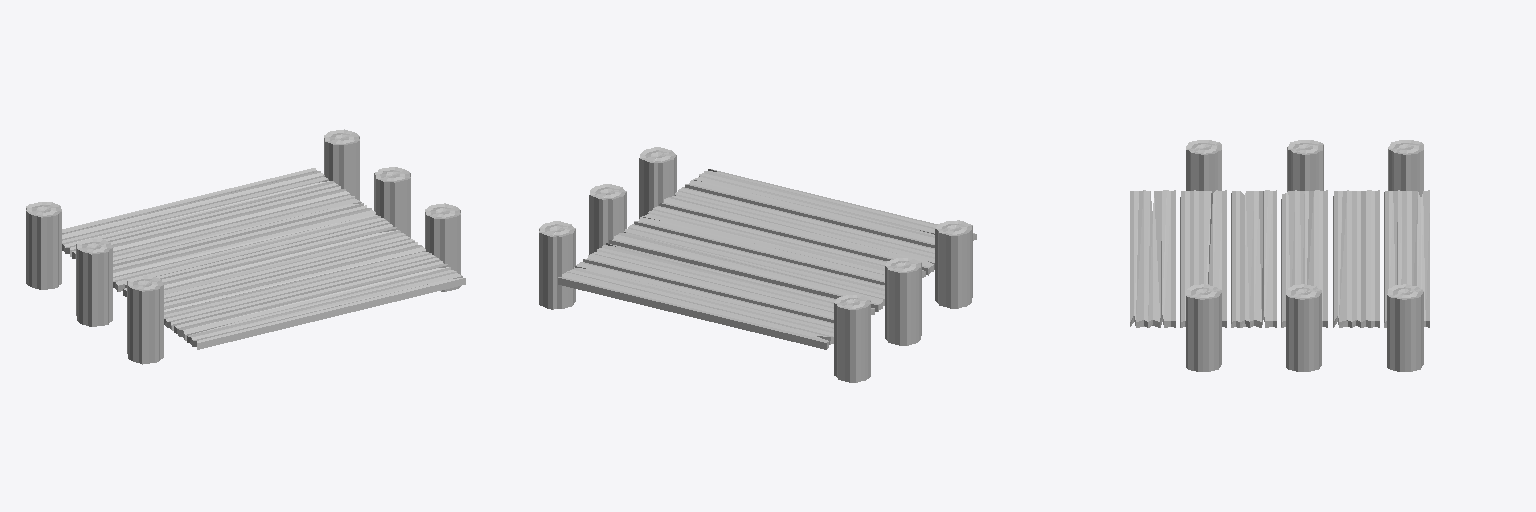
The model's file is dock.obj.
3 views of the same model, side by side, from view 1: azimuth 30°, elevation 25°; view 2: azimuth 150°, elevation 25°; view 3: azimuth 270°, elevation 25° (orthographic).
Parts seen in each view (by area): view 1: dock_geo; view 2: dock_geo; view 3: dock_geo.
Boxes of the visible parts, box(x1,y1,x2,y2) form: dock_geo: box(26, 129, 465, 364); dock_geo: box(539, 147, 976, 382); dock_geo: box(1130, 140, 1429, 371).
Size of the model in its own units: 7.44 by 1.58 by 5.92.